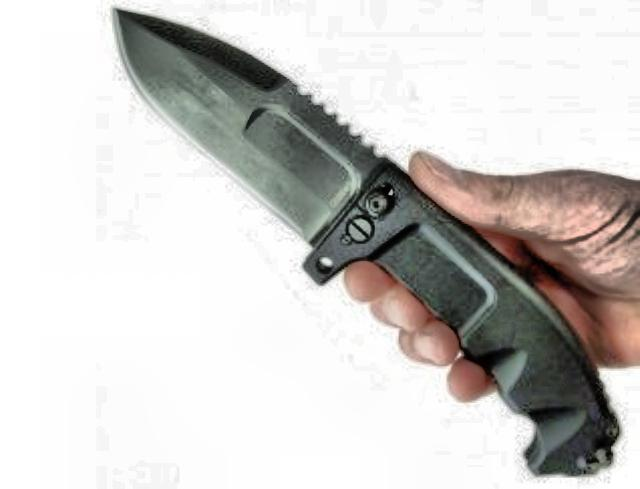knife: (101, 0, 459, 320)
